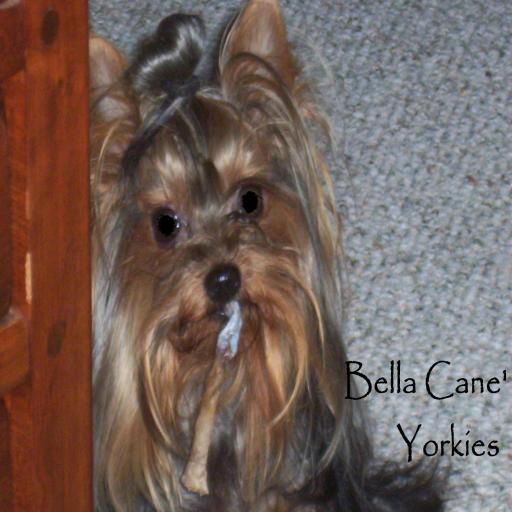dog_face: (92, 19, 326, 386)
